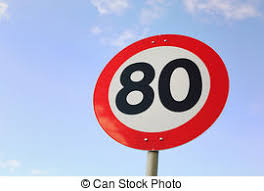Speed_limit_80km: (93, 33, 230, 151)
